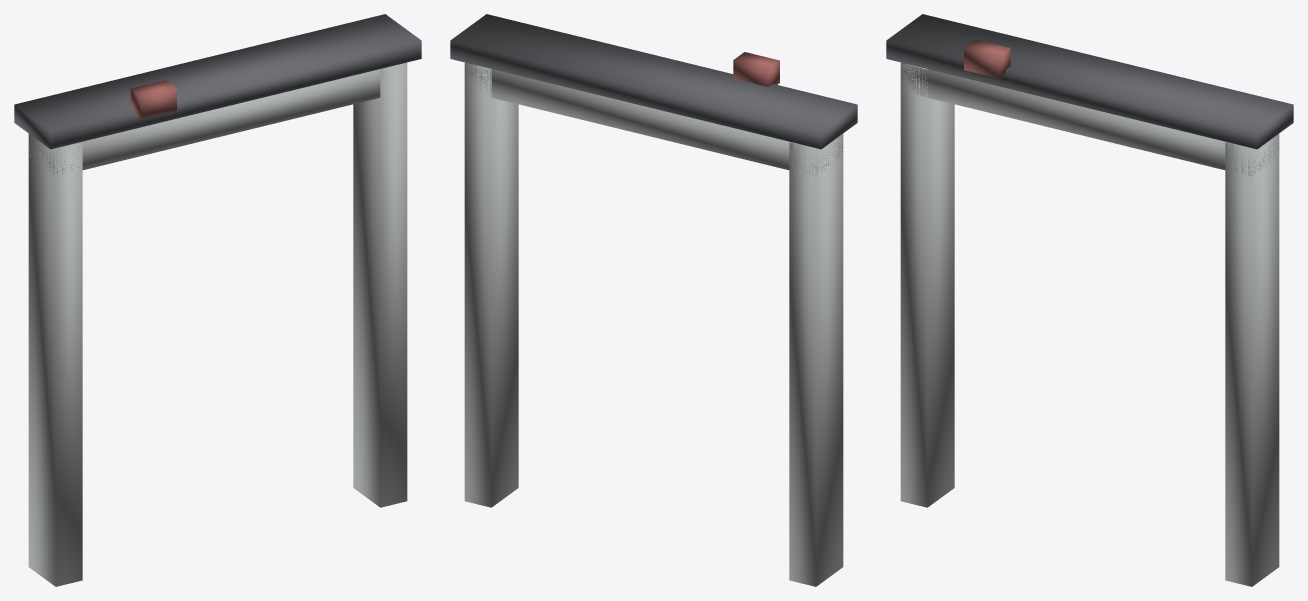
File: doorway_fire_rated_w152_h200_d24.glb
The picture shows the model from 3 angles, left to right: view 1: azimuth 30°, elevation 25°; view 2: azimuth 150°, elevation 25°; view 3: azimuth 330°, elevation 25°; orthographic projection.
Parts seen in each view (by area): view 1: world; view 2: world; view 3: world.
Part boxes in pixels (left/top/right/bottom): world: left=14, top=14, right=421, bottom=586; world: left=450, top=14, right=857, bottom=586; world: left=886, top=14, right=1293, bottom=586.
Bounding box in the file's own units: 1.89 × 2.34 × 0.38.
